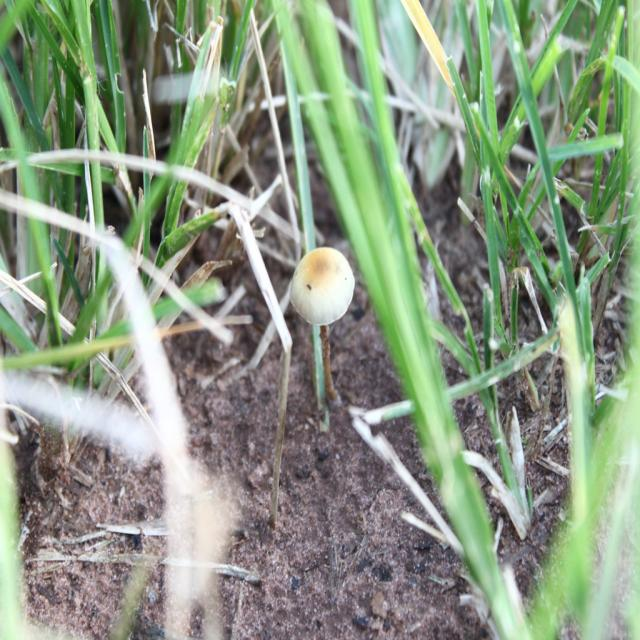Mushroom: (288, 247, 355, 395)
